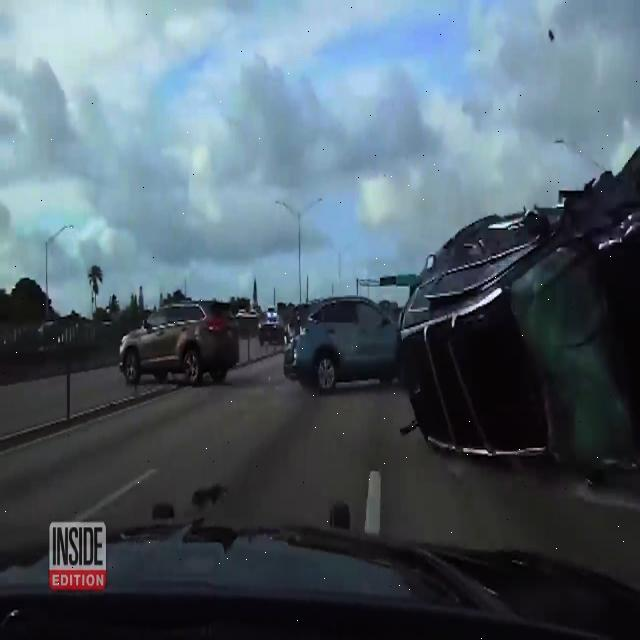accident: (401, 163, 640, 481)
